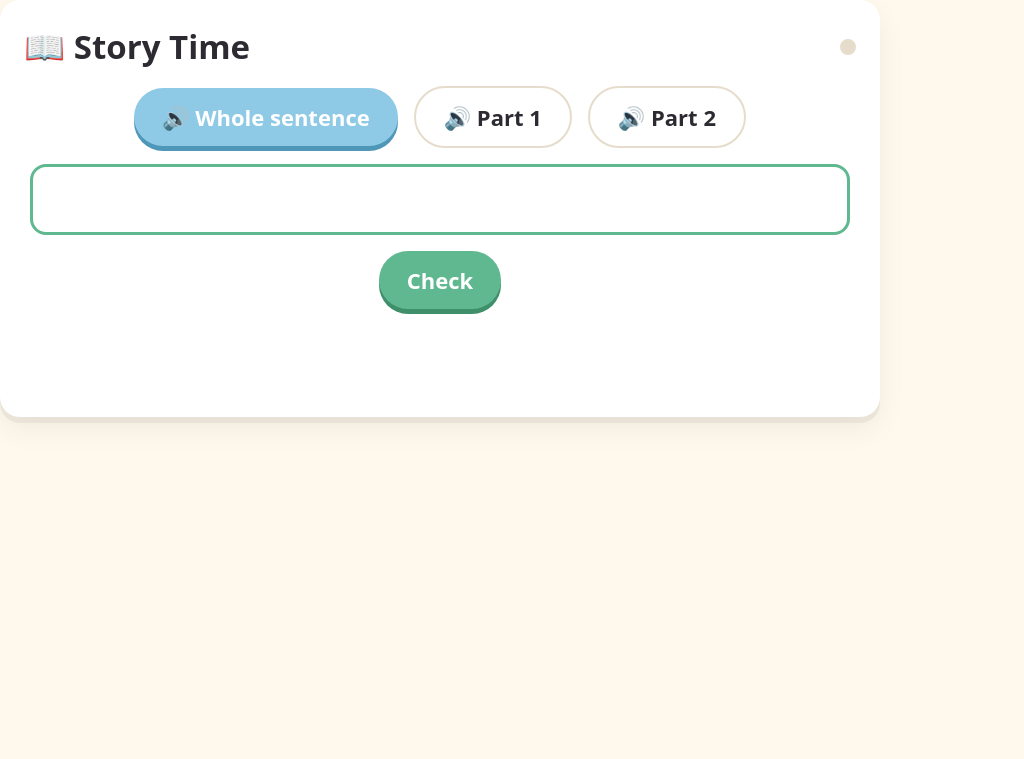
Test: StoryTime › shows one tip, for the first misspelt word
The image size is (1024, 759).
Type "My freind came to our hous." into the field named "Type the sentence" at [440, 200], box [30, 164, 850, 235]
Then press Enter
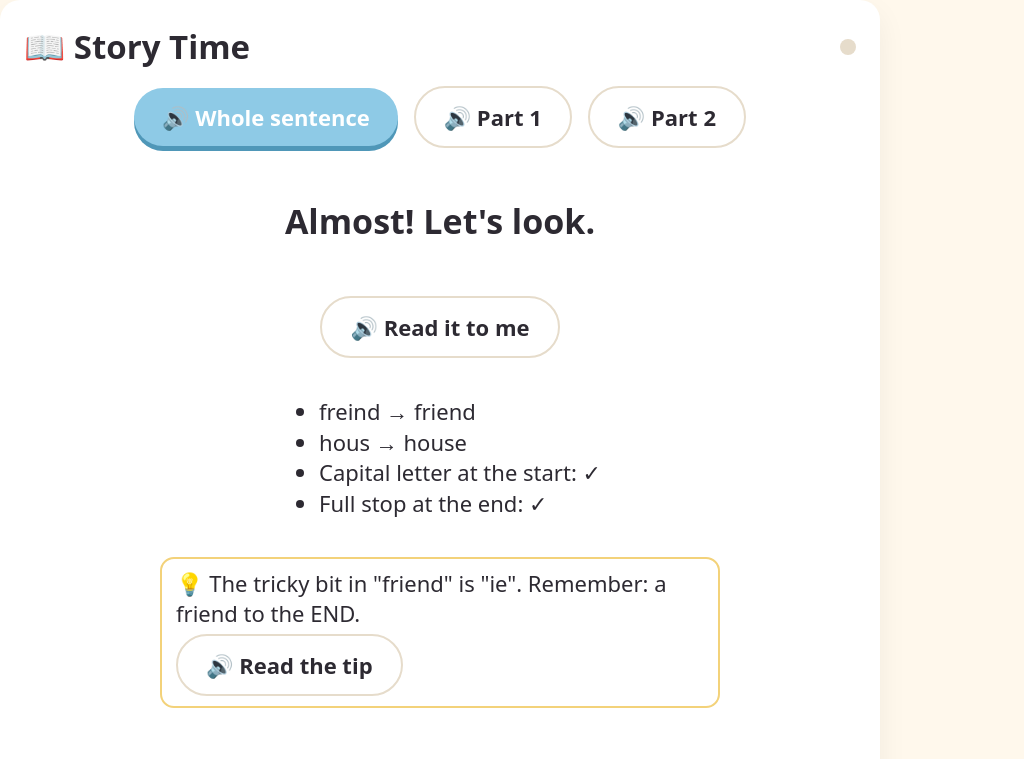
Check: the text "The tricky bit in \"friend\" is \"ie\"" is shown, box [176, 568, 666, 628]
Check: the number of messages with class "tip-box" is 1, box [160, 557, 720, 708]
